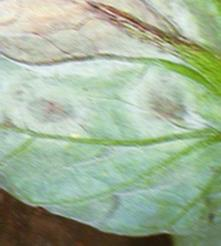Tomato leaf late blight: (0, 0, 221, 234)
